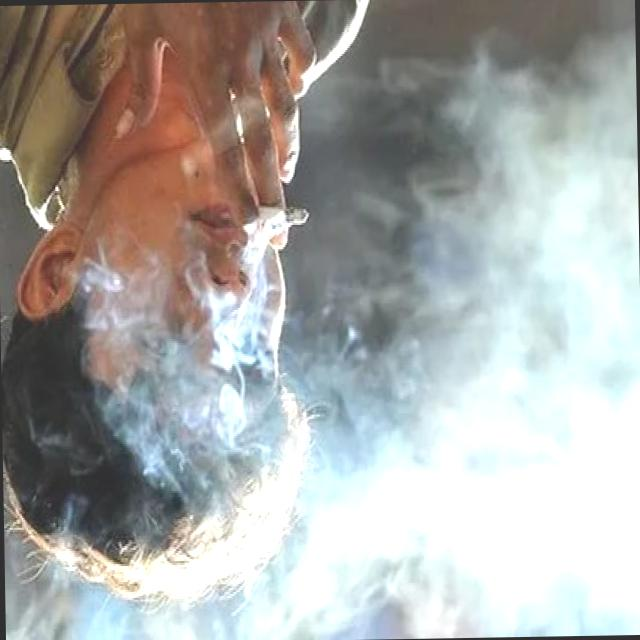smoke: (254, 204, 316, 227)
